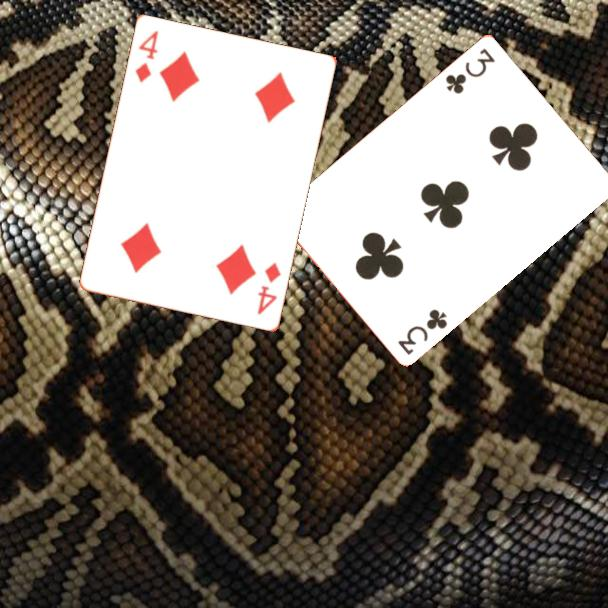c03: (394, 305, 451, 358), (442, 44, 498, 97)
d04: (254, 259, 284, 318), (132, 28, 161, 86)
